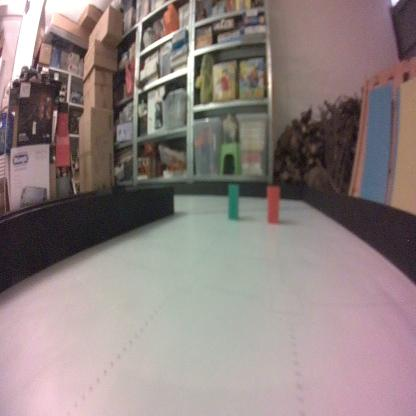green: (227, 181, 239, 223)
red: (266, 184, 282, 226)
